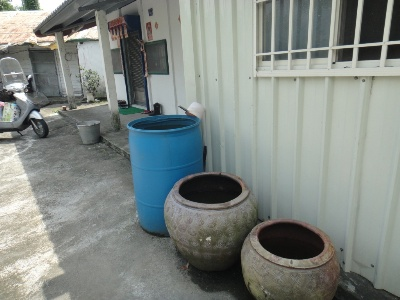bucket: (164, 170, 259, 274), (126, 114, 203, 237), (239, 217, 343, 300), (76, 120, 103, 145)
